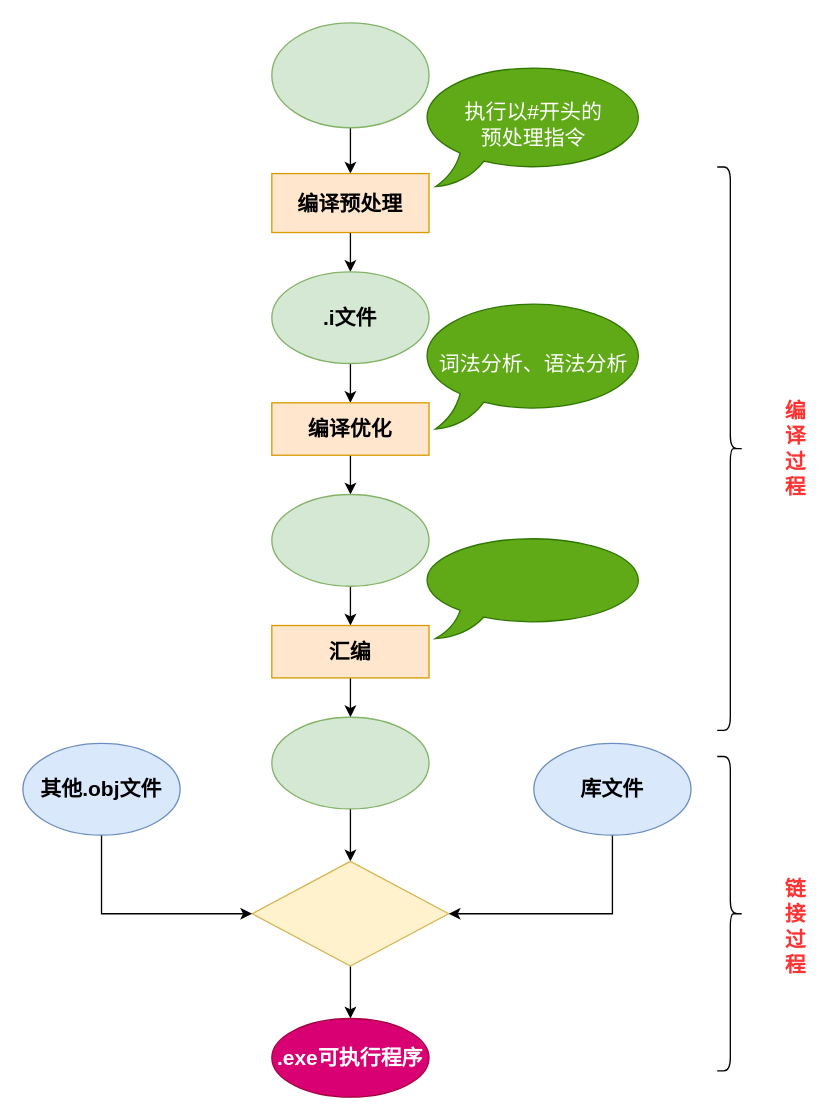
Image size: 832x1120. Some labels were removed from this diagram. Here are the shapes that lost their labels. From the top down, the centre of each, then its label:
[350,75]: 源文件cpp
[350,539]: .s文件
[533,586]: 翻译为机器码
[350,762]: .obj二进制文件
[350,913]: 链接器
